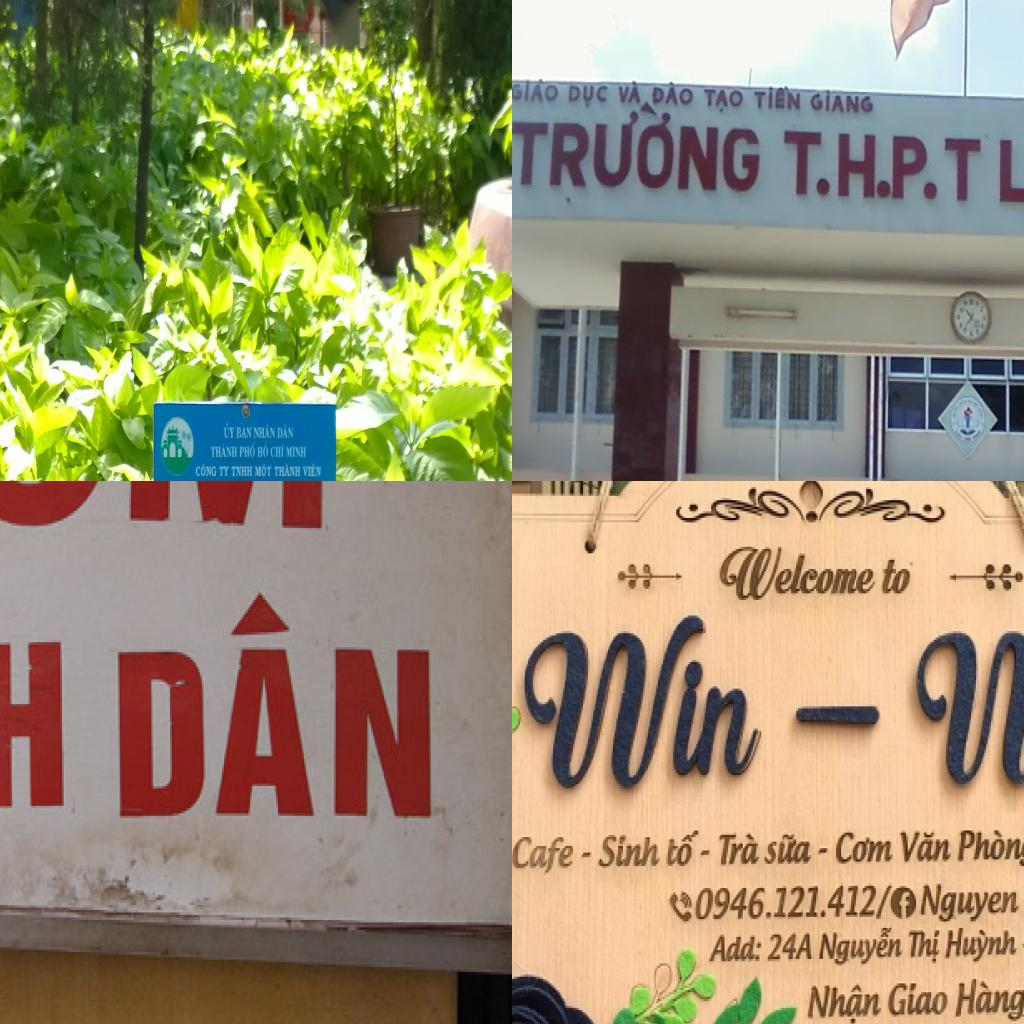text: (520, 611, 763, 797), (512, 102, 763, 195), (909, 608, 1024, 790), (783, 130, 982, 202), (718, 540, 878, 604), (693, 879, 879, 924), (919, 881, 1024, 925), (816, 924, 906, 970), (950, 974, 1024, 1024), (806, 977, 884, 1024), (954, 823, 1024, 870), (943, 926, 1019, 968), (512, 832, 581, 877), (886, 977, 954, 1021), (598, 828, 663, 873), (706, 928, 766, 968), (836, 828, 895, 868), (901, 824, 954, 866), (998, 127, 1024, 206), (763, 926, 814, 966), (716, 826, 761, 870), (808, 88, 878, 116), (763, 831, 814, 868), (665, 828, 703, 873), (879, 556, 918, 598), (906, 926, 944, 968), (754, 85, 802, 112), (652, 79, 695, 109), (703, 88, 745, 117), (512, 78, 560, 102), (567, 85, 611, 110), (874, 884, 894, 921), (894, 886, 916, 919), (617, 78, 644, 104), (210, 442, 237, 458), (194, 462, 217, 478), (274, 464, 300, 478), (254, 424, 276, 440), (230, 464, 254, 478), (239, 440, 256, 458), (255, 464, 273, 480), (271, 441, 286, 460), (303, 464, 322, 478), (286, 445, 306, 458), (278, 424, 294, 440), (223, 421, 236, 440), (257, 440, 270, 458), (237, 426, 252, 439), (218, 464, 230, 476)
